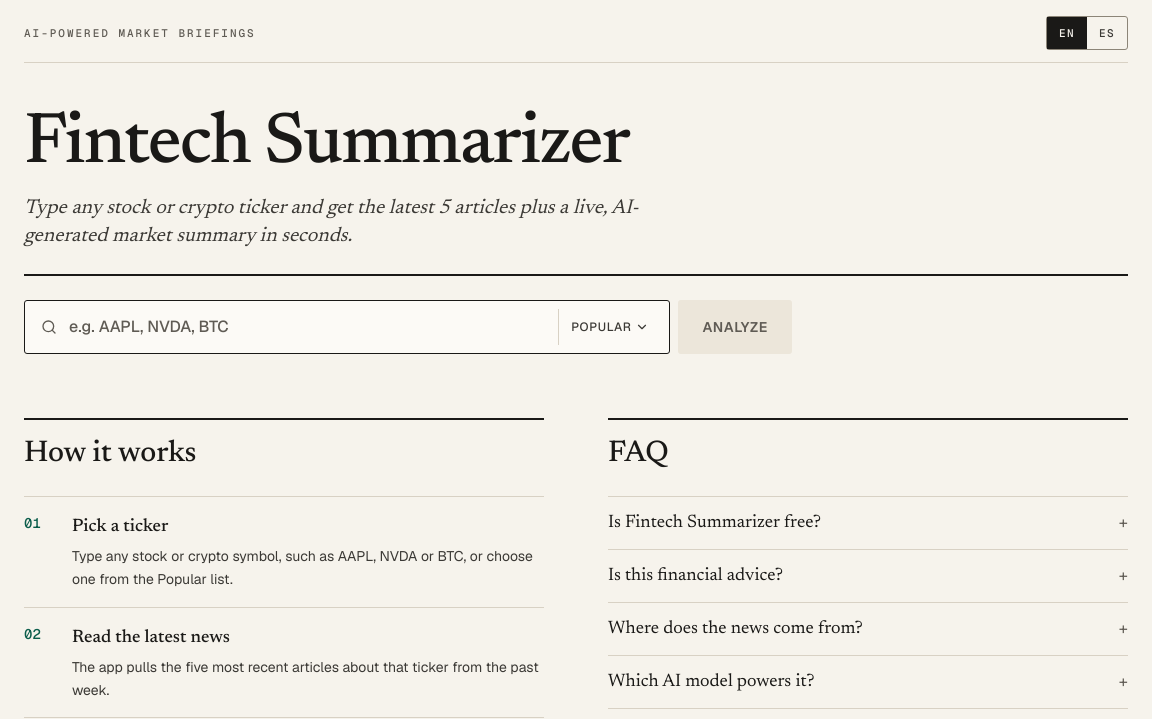
Home page — full front-end pipeline › shows stream errors and the empty-news state
In the field named "Stock ticker symbol": point(347, 327) [25,301,670,353], type "zzz"
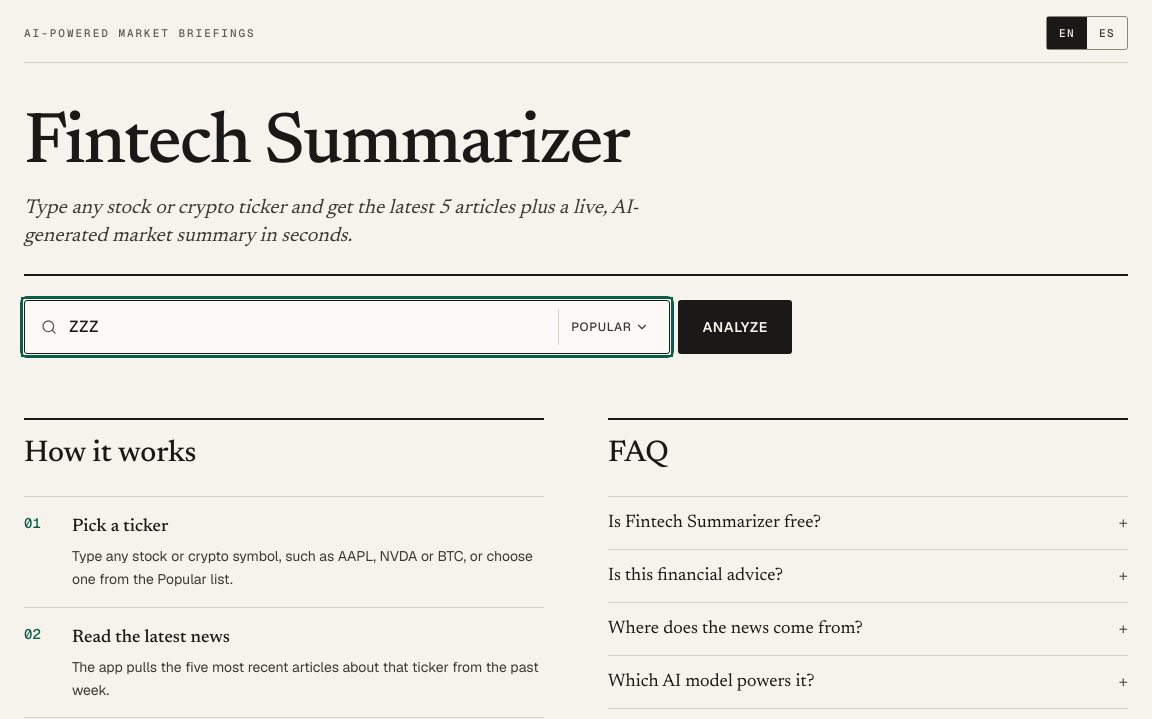
Click the button "Analyze": point(735, 327) [678,300,792,354]
(page scrolled)
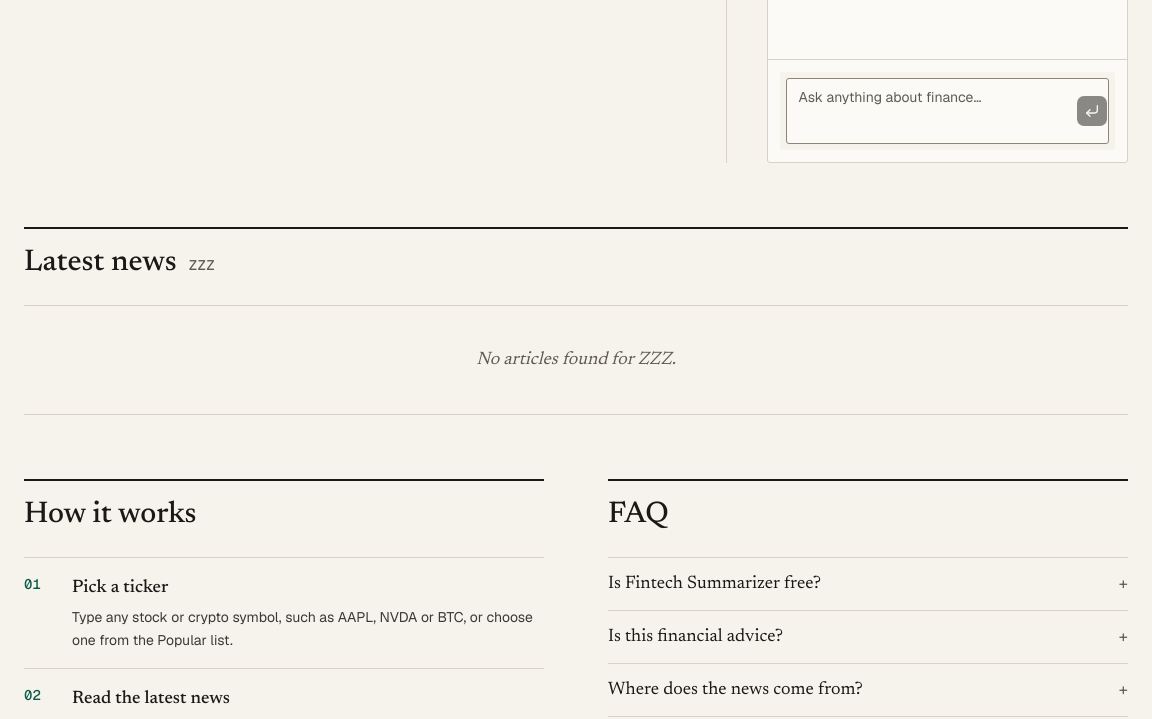
Expected: the text "No articles found for ZZZ." is shown, [24,305,1128,415]
